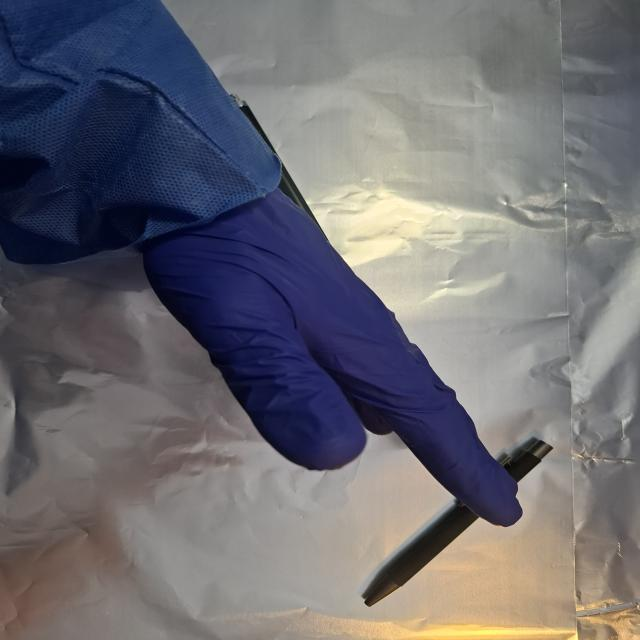glove_on: (139, 186, 528, 530)
